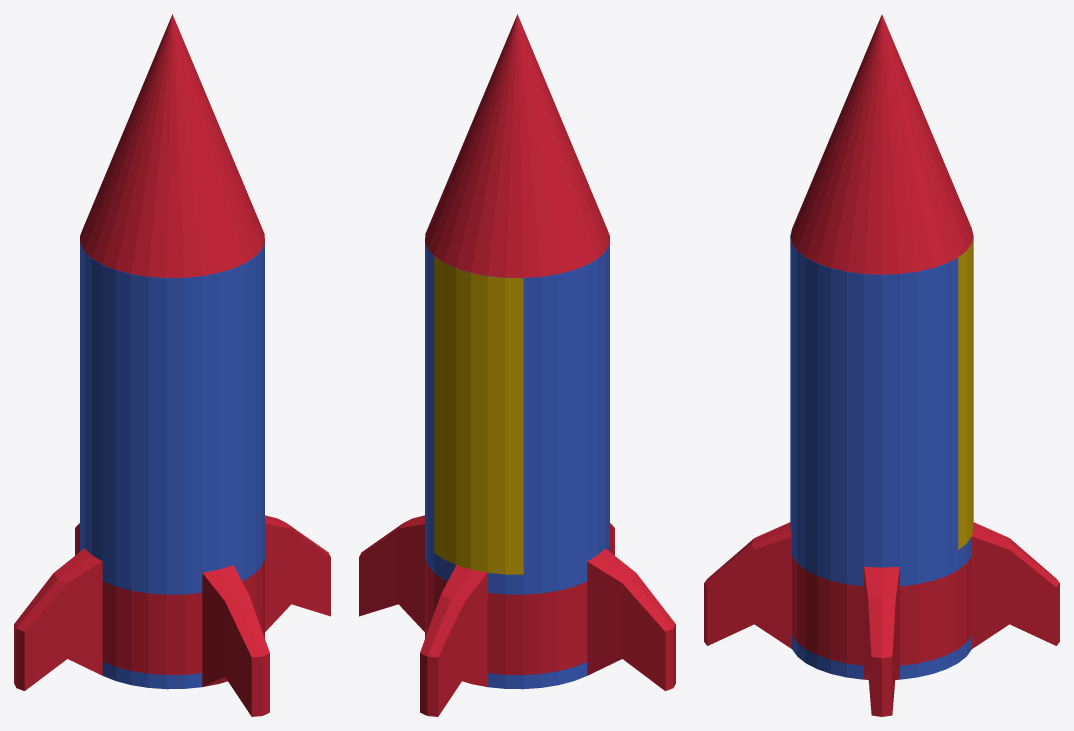
File: RocketTing.fbx
The picture shows the model from 3 angles, left to right: view 1: azimuth 30°, elevation 25°; view 2: azimuth 150°, elevation 25°; view 3: azimuth 270°, elevation 25°; orthographic projection.
Visible parts, largest first — view 1: Cylinder; view 2: Cylinder; view 3: Cylinder.
Part boxes in pixels (left/top/right/bottom): Cylinder: left=14, top=14, right=330, bottom=716; Cylinder: left=359, top=14, right=675, bottom=716; Cylinder: left=704, top=14, right=1059, bottom=716.
Size of the model in its own units: 291 by 291 by 566.
